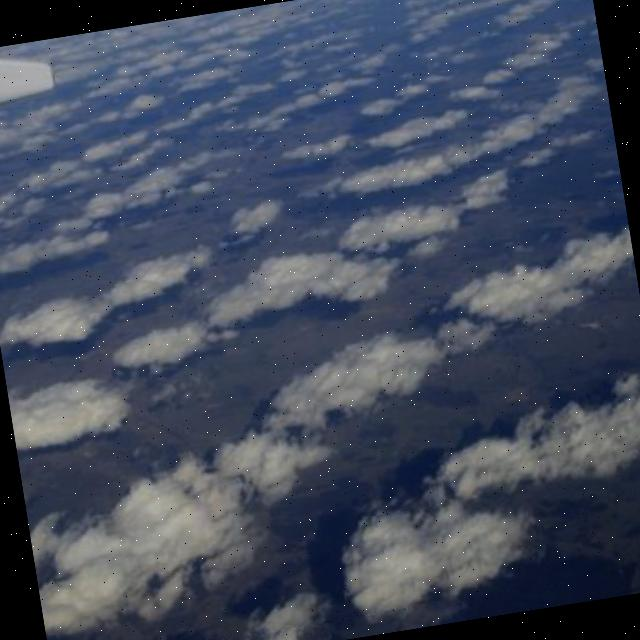Cu: (1, 1, 640, 550)
